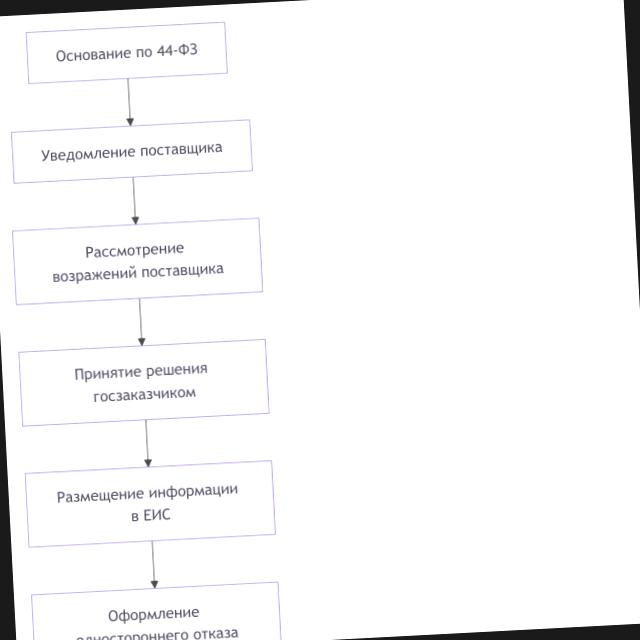arrow: (150, 541, 158, 588), (139, 299, 145, 345), (132, 178, 138, 224), (145, 420, 151, 466), (127, 80, 133, 125)
rectangle: (19, 340, 269, 426), (13, 218, 262, 304), (26, 461, 275, 547), (12, 120, 252, 184), (27, 22, 227, 84)
